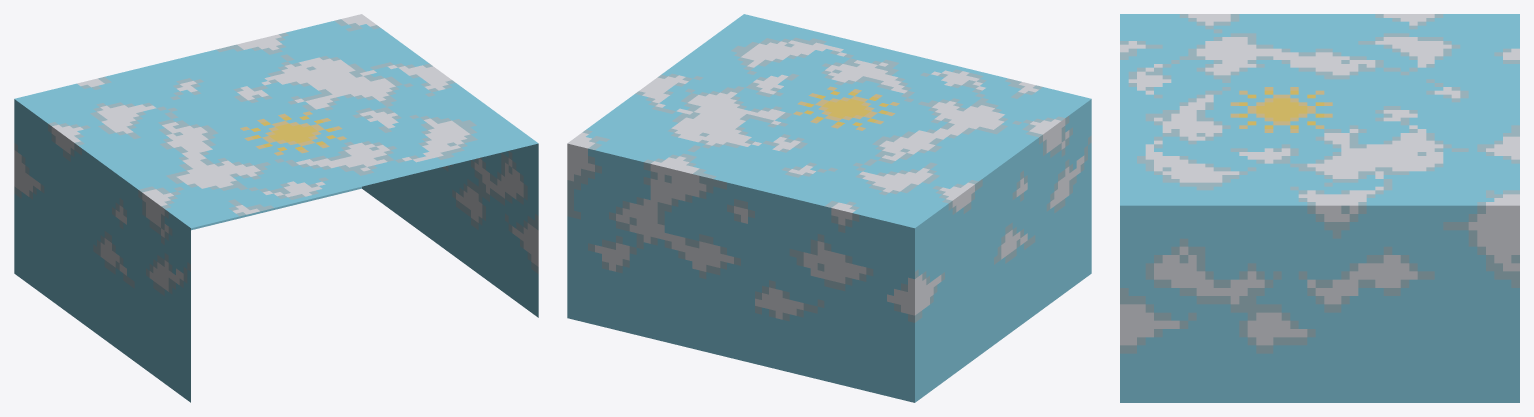
Rendered from skybox kani.fbx.
3 renders of one model, left to right at view 1: azimuth 30°, elevation 25°; view 2: azimuth 150°, elevation 25°; view 3: azimuth 270°, elevation 25°, orthographic. The views are drawn at different scales.
Visible parts, largest first — view 1: polySurface14; view 2: polySurface14; view 3: polySurface14.
Boxes of the visible parts, x1=… form: polySurface14: x1=14, y1=14, x2=538, y2=402; polySurface14: x1=567, y1=14, x2=1091, y2=402; polySurface14: x1=1120, y1=14, x2=1519, y2=402.
Bounding box in the file's own units: 2000 × 960 × 1762.
